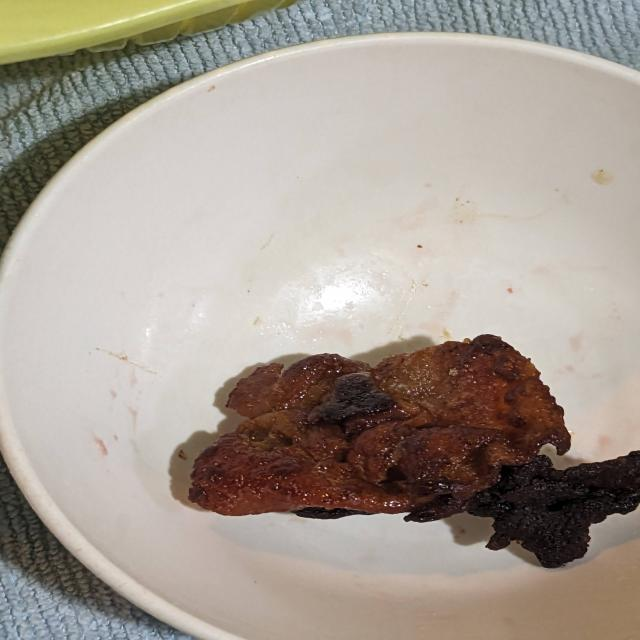overcooked pork: (173, 325, 640, 575)
